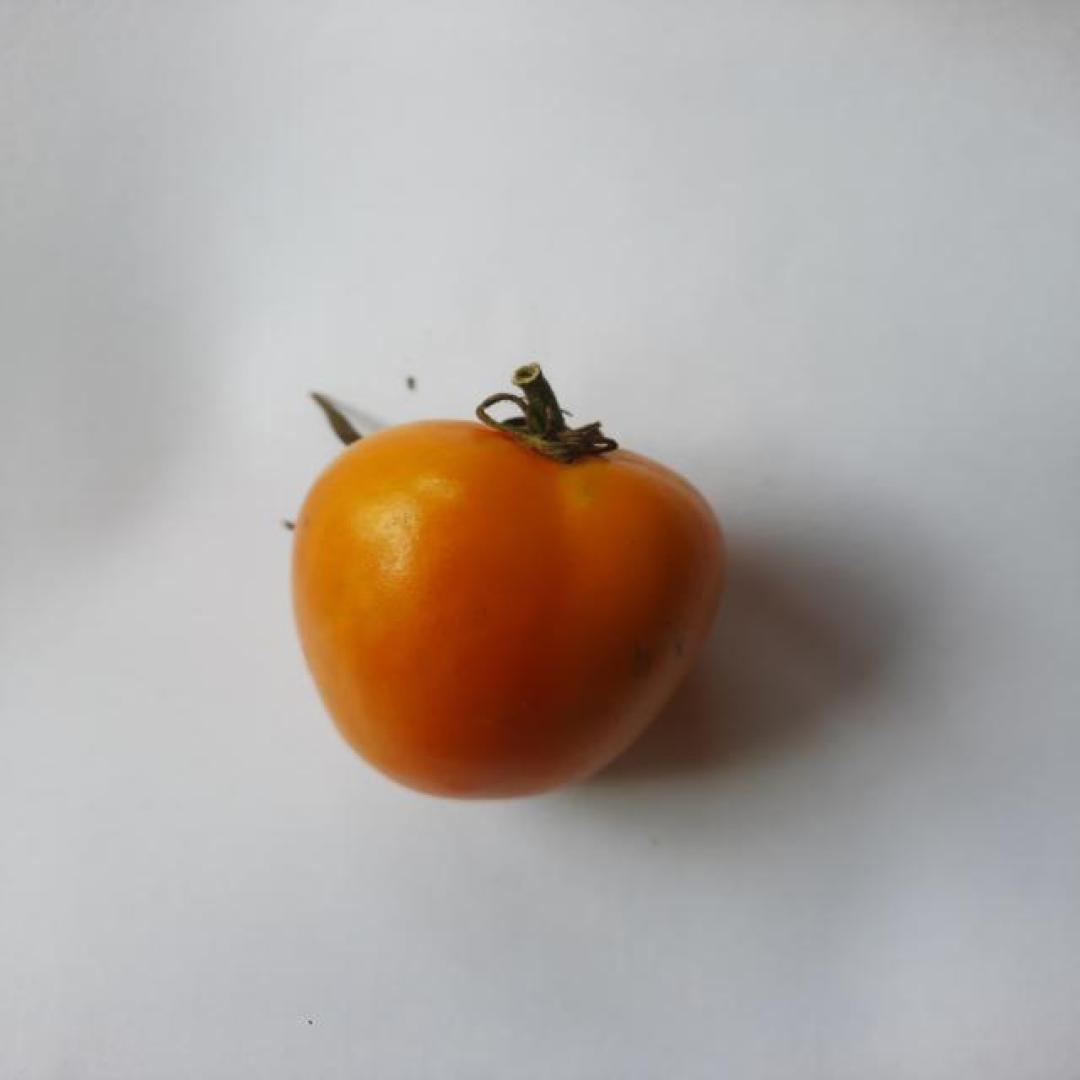setengah_matang: (288, 417, 730, 803)
